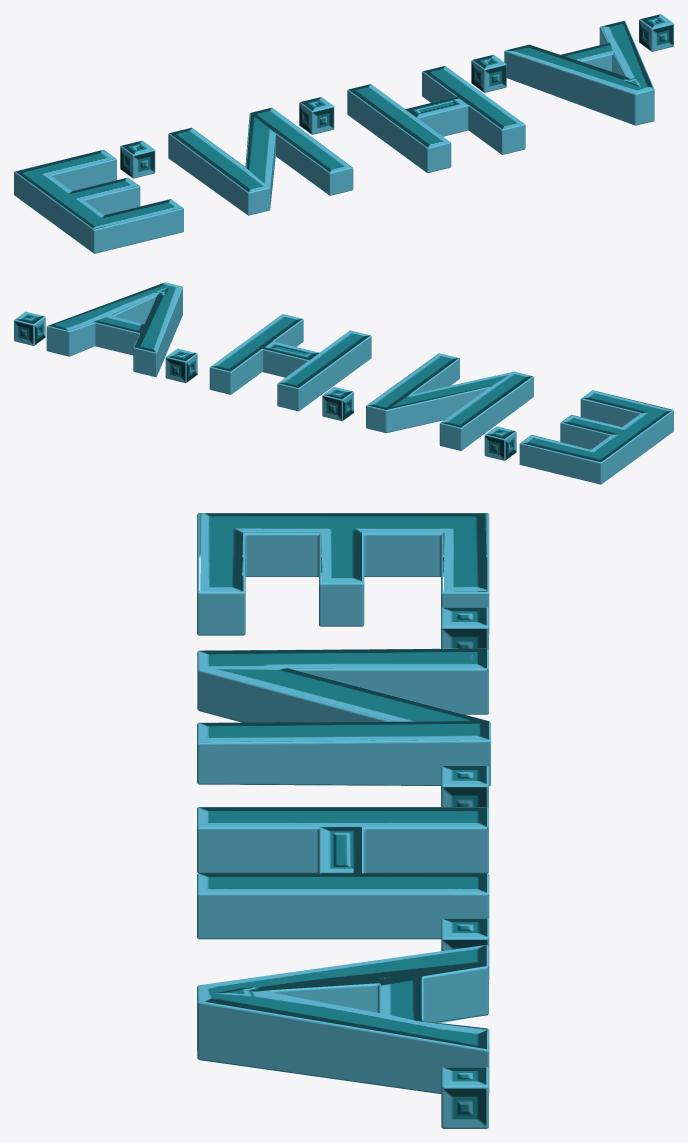
Rendered from TituloJuego.fbx.
3 renders of one model, top to bottom at view 1: azimuth 30°, elevation 25°; view 2: azimuth 150°, elevation 25°; view 3: azimuth 270°, elevation 25°, orthographic. The views are drawn at different scales.
Parts seen in each view (by area): view 1: Cube.001; view 2: Cube.001; view 3: Cube.001.
Part boxes in pixels (x1,y1,x2,y2): Cube.001: (14,14,673,253); Cube.001: (14,282,673,484); Cube.001: (197,513,490,1128).
Size of the model in its own units: 399 by 20.55 by 86.43.
Materials: 1 (1 with a texture image).
